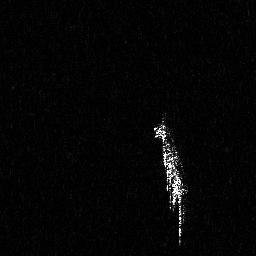ship: (152, 110, 192, 250)
